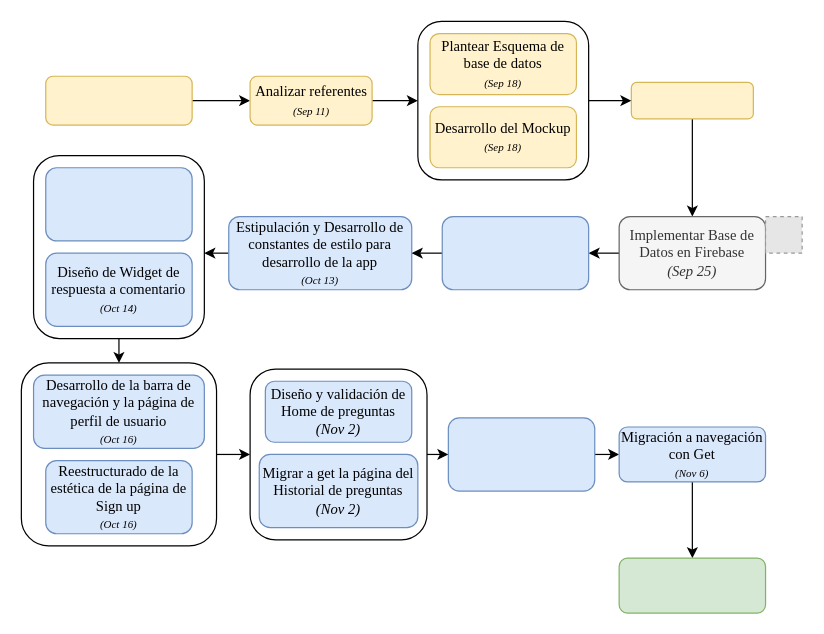
This 824x634 diagram has some shape labels left out. Grey dashed boxes stand in for pictures. Each missing label, with the box of its shape:
Conexión exitosa con Firebase (Nov 8): (618, 557, 766, 613)
Desarrollo las páginas de login y signup (Oct 6): (441, 215, 589, 290)
Esclarecer objetivos y alcance (Sep 9): (45, 75, 192, 125)
Integración de páginas (Nov 4): (447, 417, 595, 491)
Reestructurado de la estética de la página de login (Oct 14): (45, 167, 192, 241)
Validar Mockup (Sep 22): (630, 81, 753, 119)
